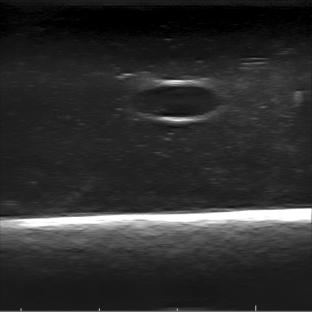vessel: (131, 79, 224, 123)
